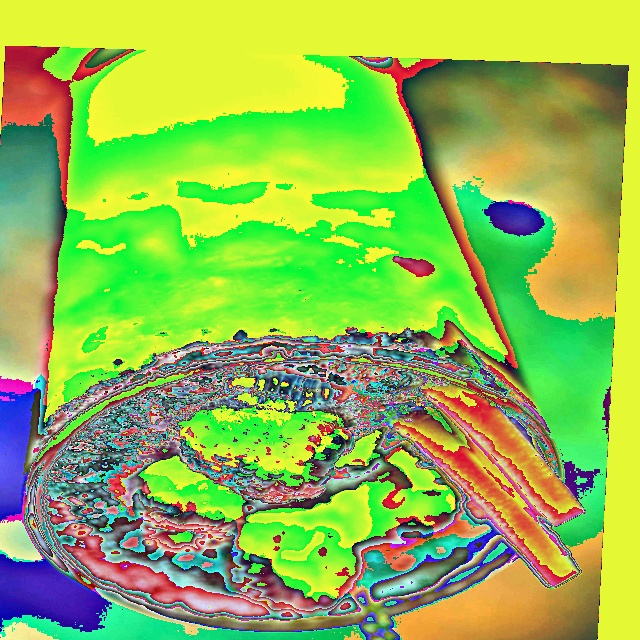background: (37, 50, 586, 628)
